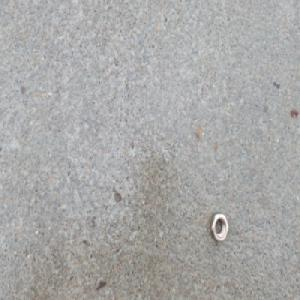Nut: (209, 211, 228, 243)
